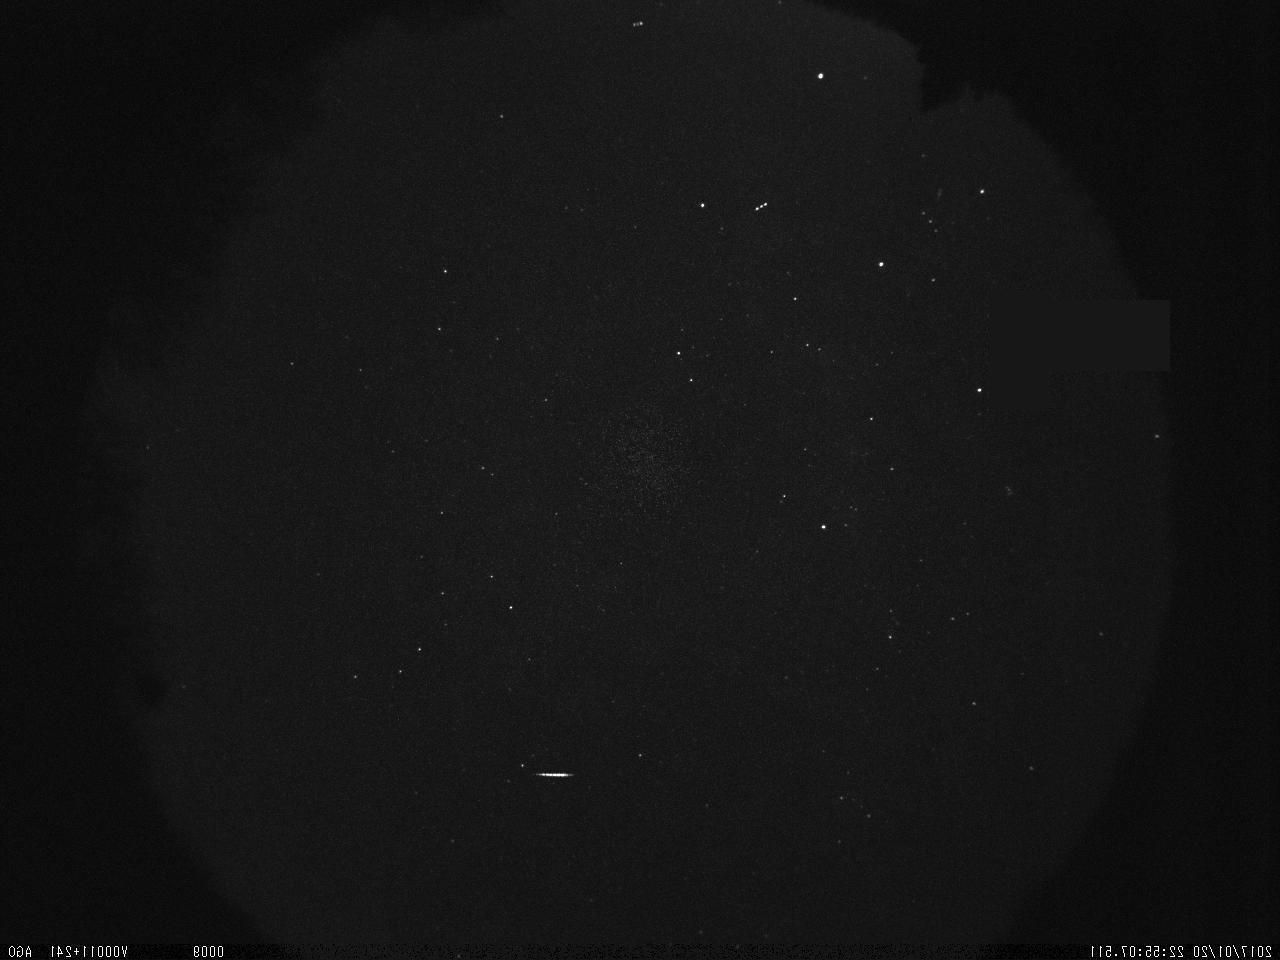meteor: (532, 759, 578, 795)
